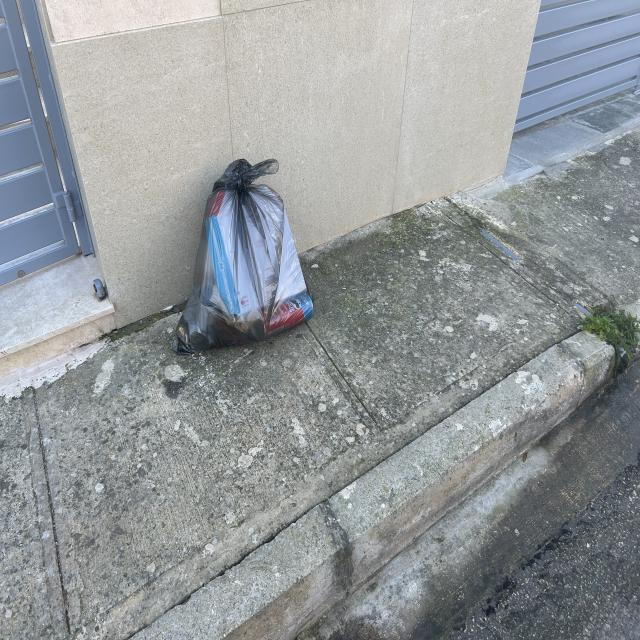black_bag: (168, 156, 318, 357)
